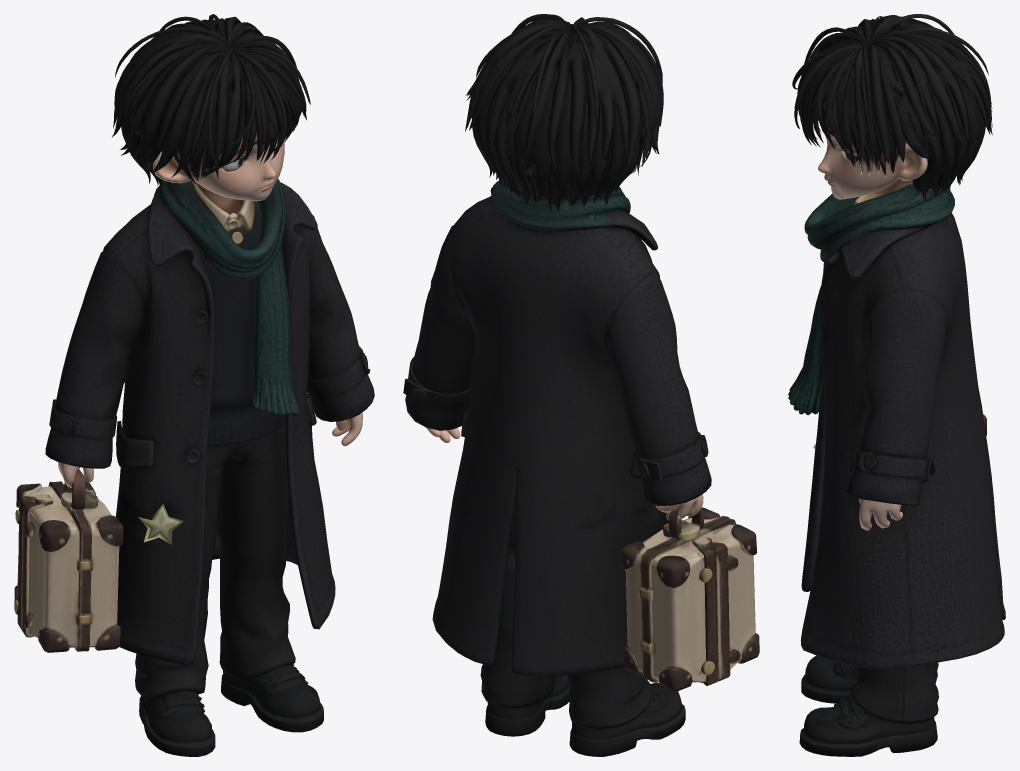
The model's file is 04-wanderer.glb.
3 views of the same model, side by side, from view 1: azimuth 30°, elevation 25°; view 2: azimuth 150°, elevation 25°; view 3: azimuth 270°, elevation 25° (orthographic). The views are drawn at different scales.
Visible parts, largest first — view 1: tripo_node_877e2b95; view 2: tripo_node_877e2b95; view 3: tripo_node_877e2b95.
Boxes of the visible parts, left/top/right/bottom form: tripo_node_877e2b95: left=14, top=14, right=374, bottom=756; tripo_node_877e2b95: left=403, top=14, right=759, bottom=756; tripo_node_877e2b95: left=788, top=14, right=1005, bottom=756.
Size of the model in its own units: 0.5073 by 0.9995 by 0.2847.
Materials: 1 (1 with a texture image).
